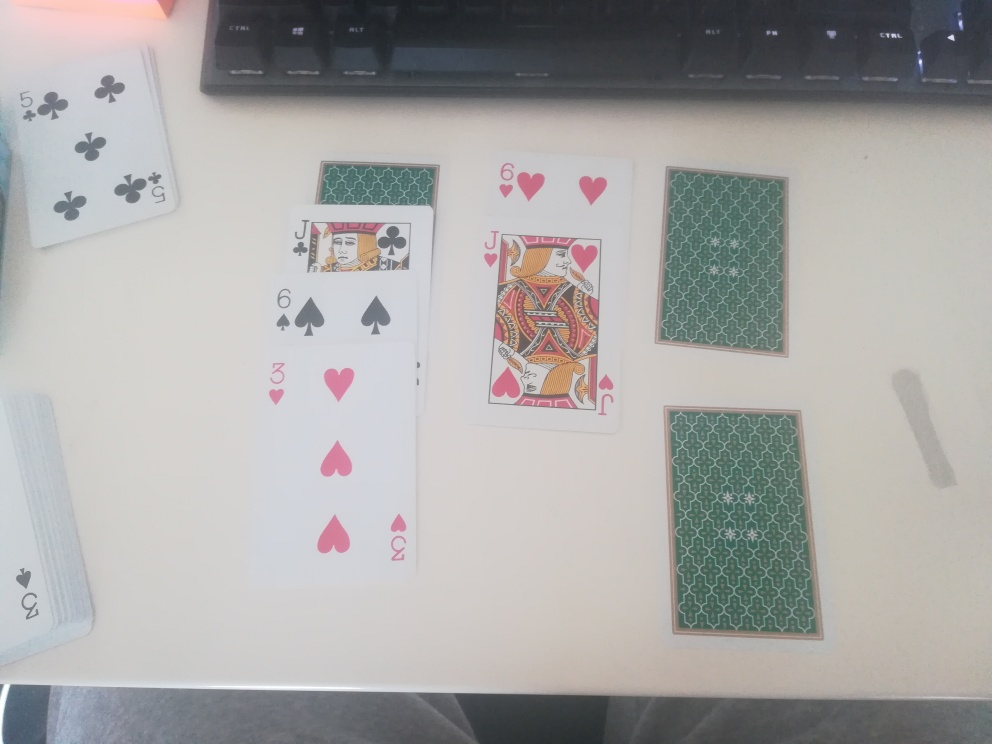3H: (266, 356, 289, 414)
6H: (493, 157, 518, 202)
6S: (270, 284, 296, 334)
BACK: (662, 402, 825, 642), (657, 174, 791, 349), (316, 159, 439, 204)
JC: (289, 214, 311, 267)
JH: (482, 226, 501, 272)
